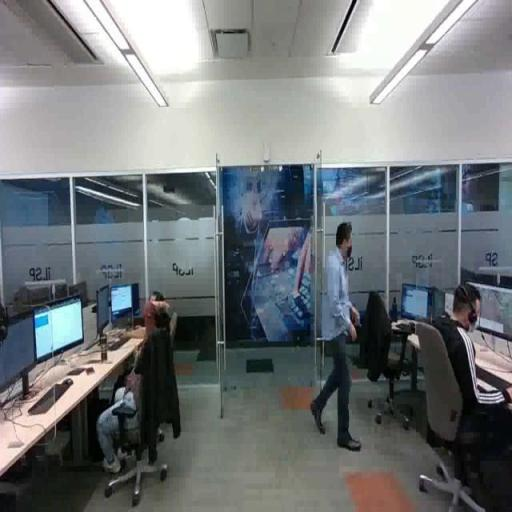person: (428, 281, 512, 498), (100, 288, 175, 483), (311, 215, 371, 454)
